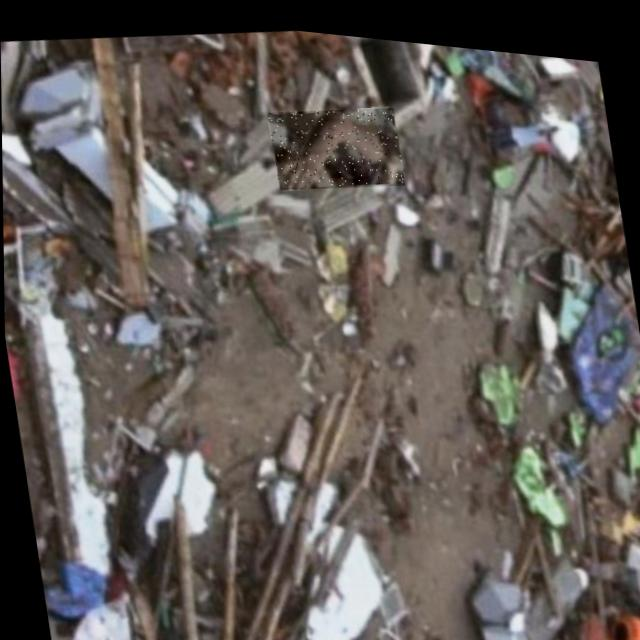Person in Rubble: (267, 89, 404, 194)
